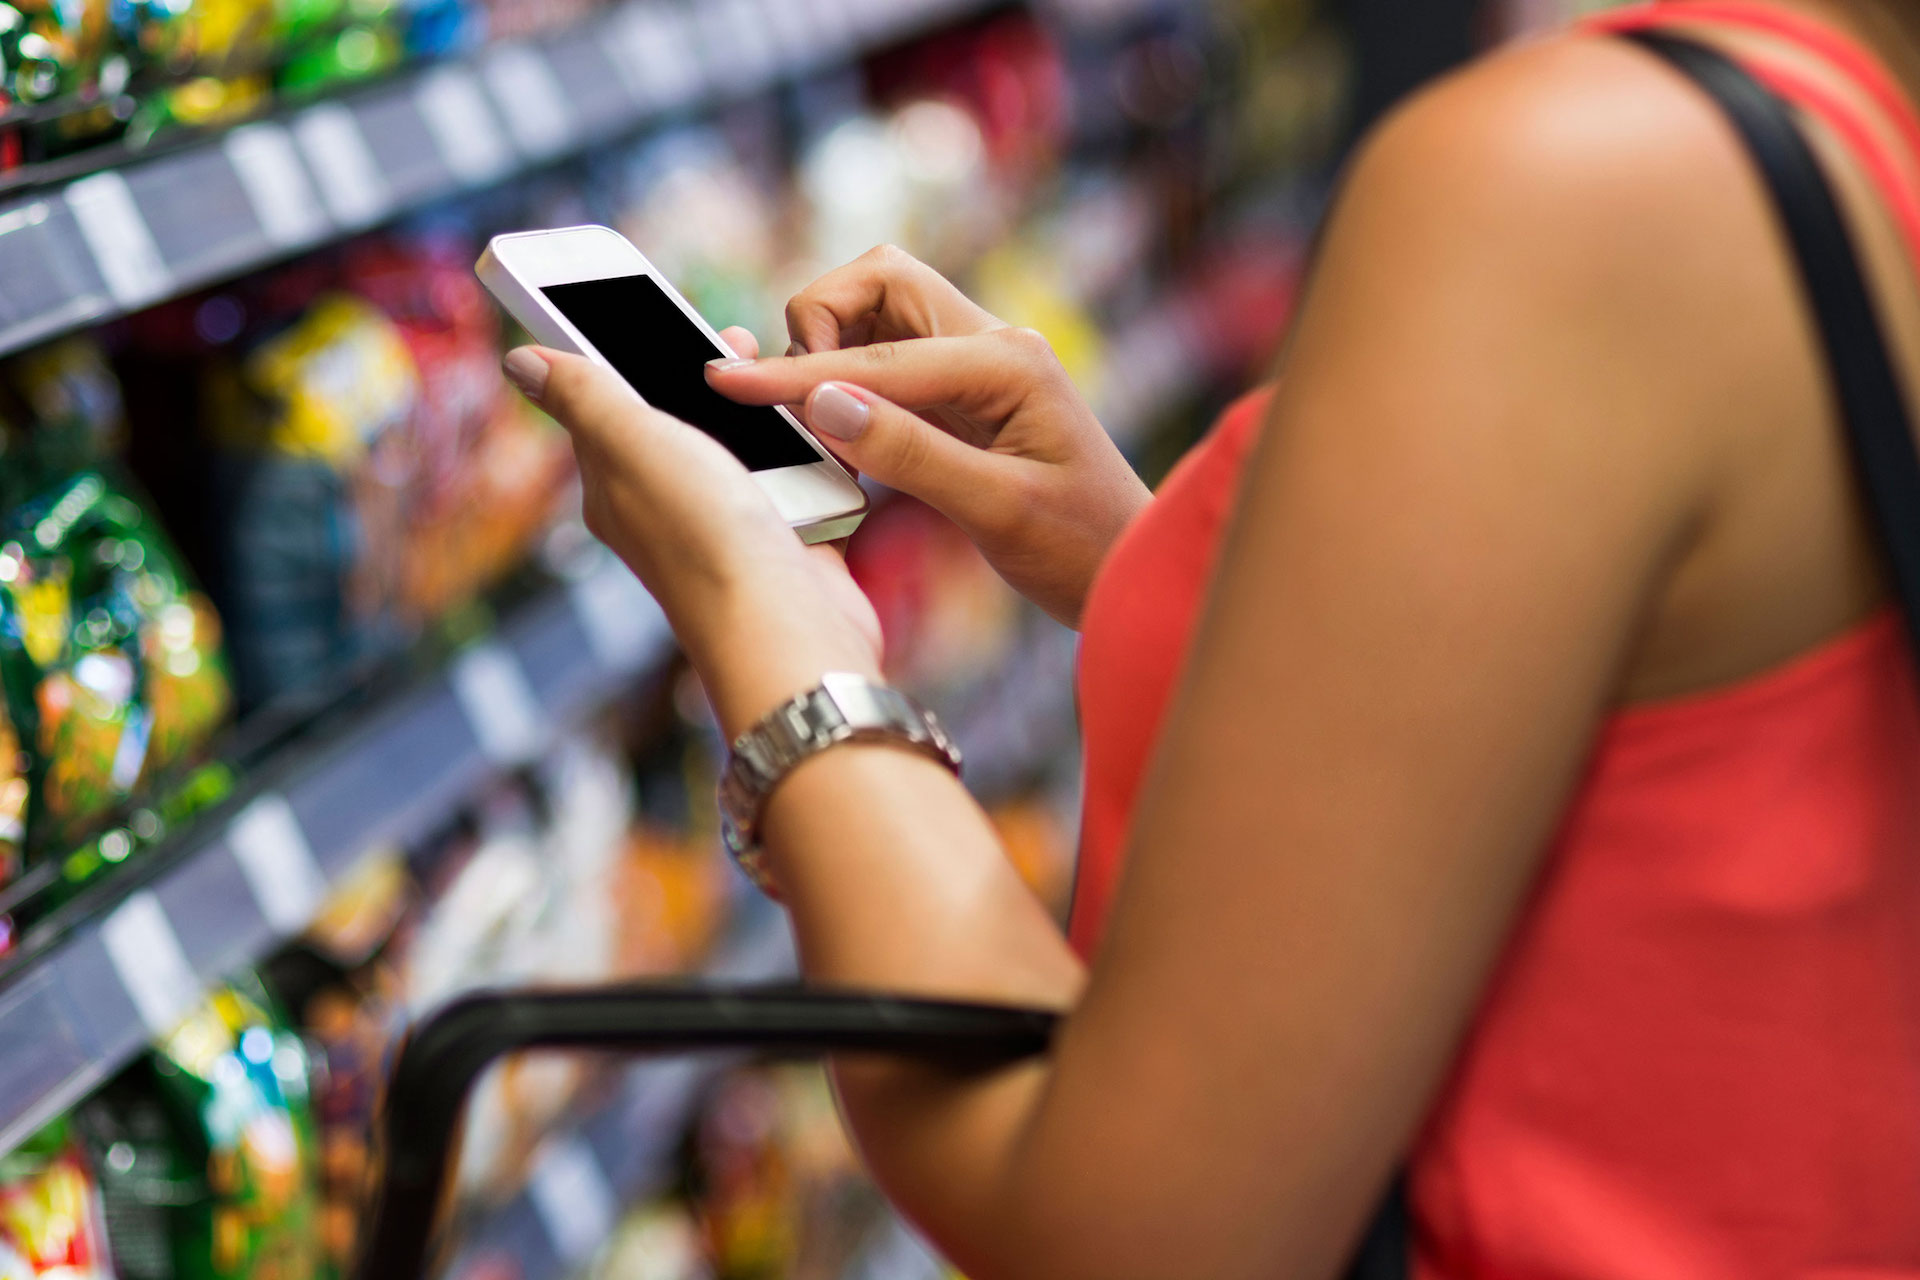smartphone: (473, 219, 870, 551)
